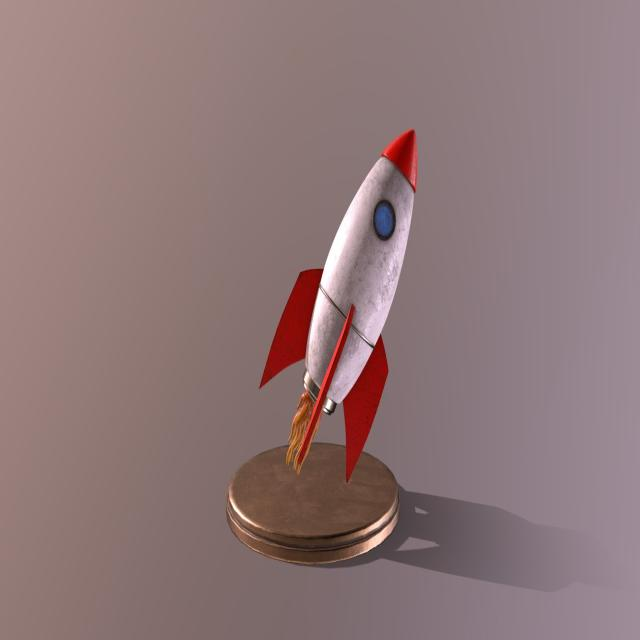rocket: (253, 114, 428, 494)
